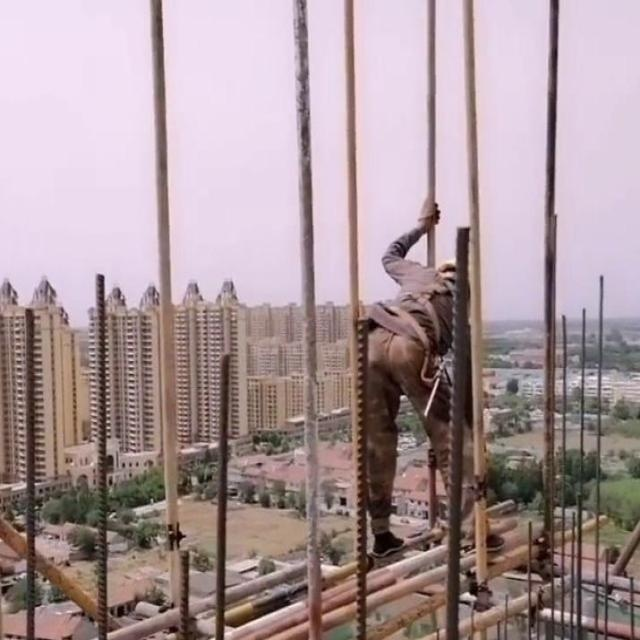Arnes_seguridad: (370, 255, 453, 365)
